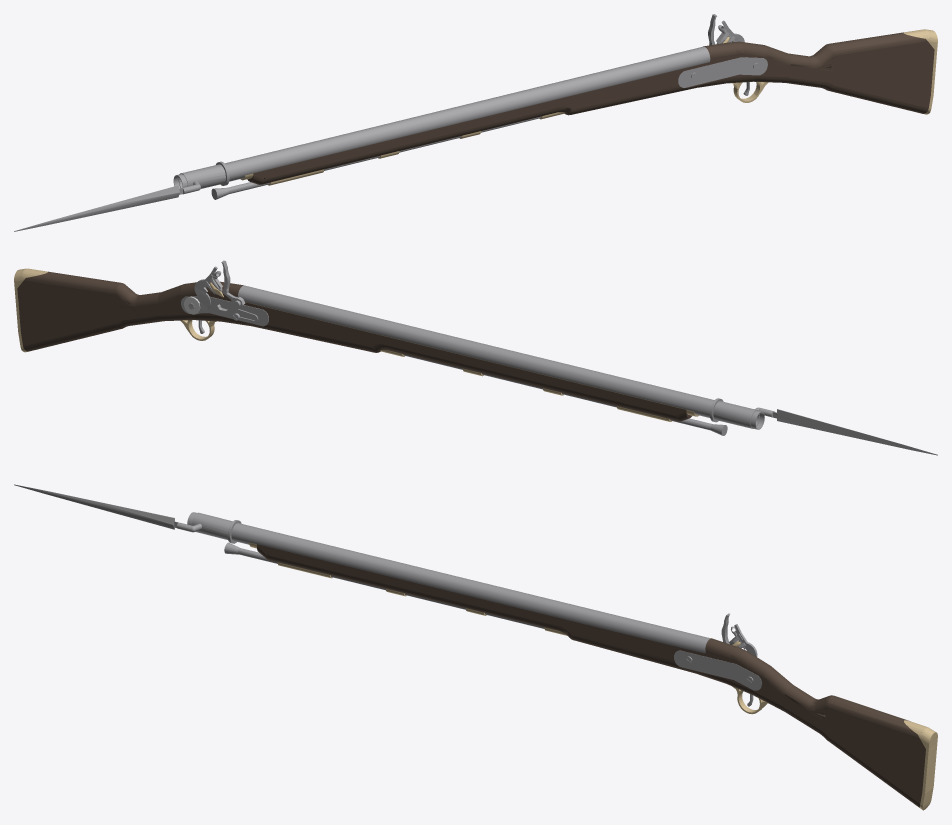
File: s_mosquete2.glb
The picture shows the model from 3 angles, top to bottom: view 1: azimuth 30°, elevation 25°; view 2: azimuth 150°, elevation 25°; view 3: azimuth 330°, elevation 25°; orthographic projection.
Parts seen in each view (by area): view 1: Object_2; view 2: Object_2; view 3: Object_2.
Boxes of the visible parts, <box> form: Object_2: <box>14,14,937,231</box>; Object_2: <box>14,260,937,455</box>; Object_2: <box>14,484,937,810</box>.
Size of the model in its own units: 1.5 by 0.2241 by 0.0546.
